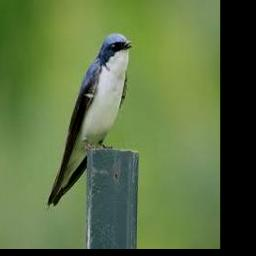Swallow: (47, 33, 134, 207)
